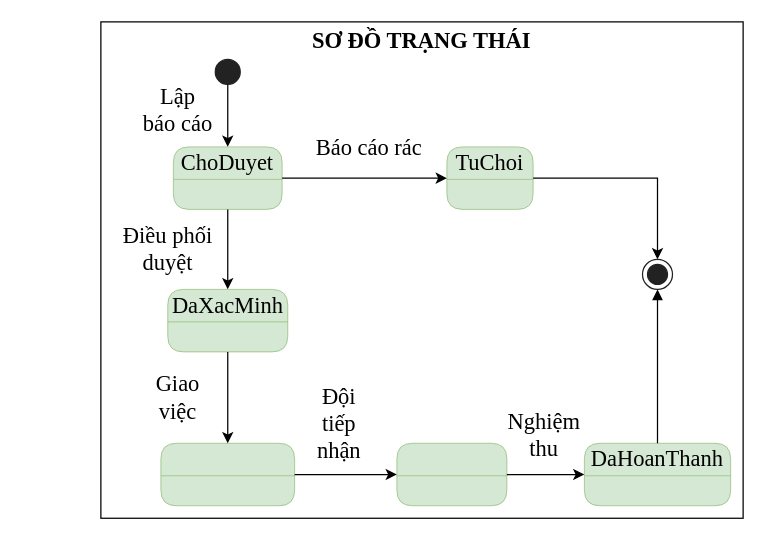
This 765x541 diagram has some shape labels left out. The centre of each missing label's shape, as x and y in pixels:
DangXuLy: pixel 451 474
DaPhanCong: pixel 227 474
